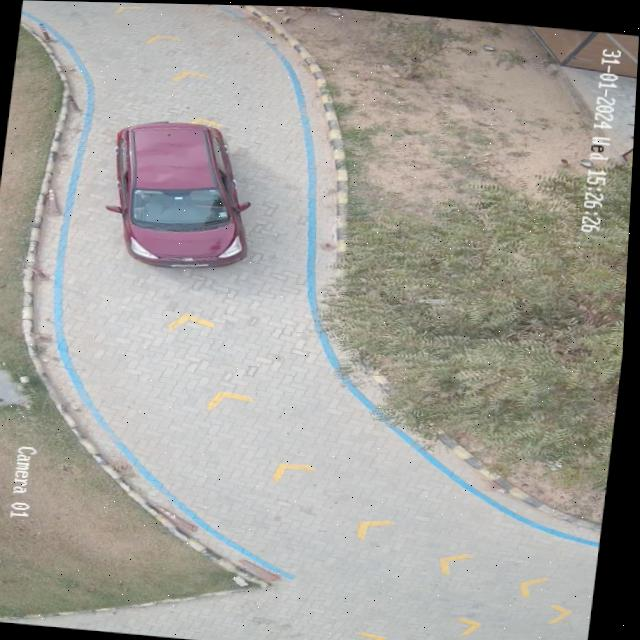car: (113, 121, 248, 267)
